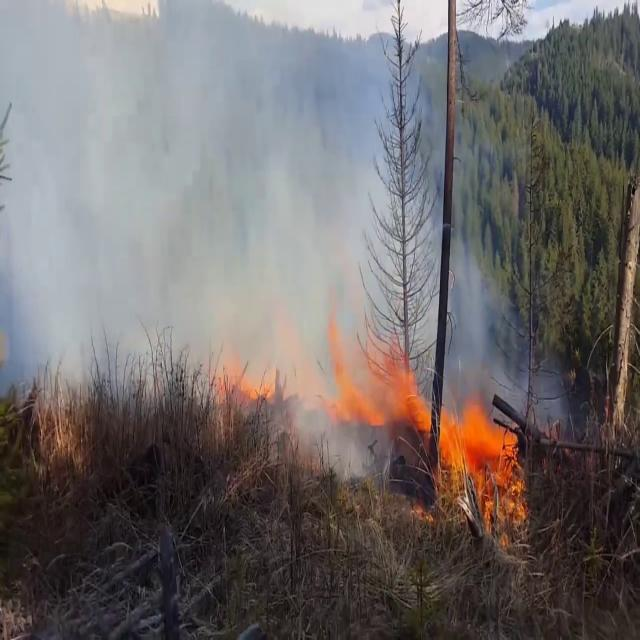Fire: (326, 316, 438, 442), (434, 386, 528, 530), (210, 340, 280, 411)
Smoke: (0, 0, 475, 425)
